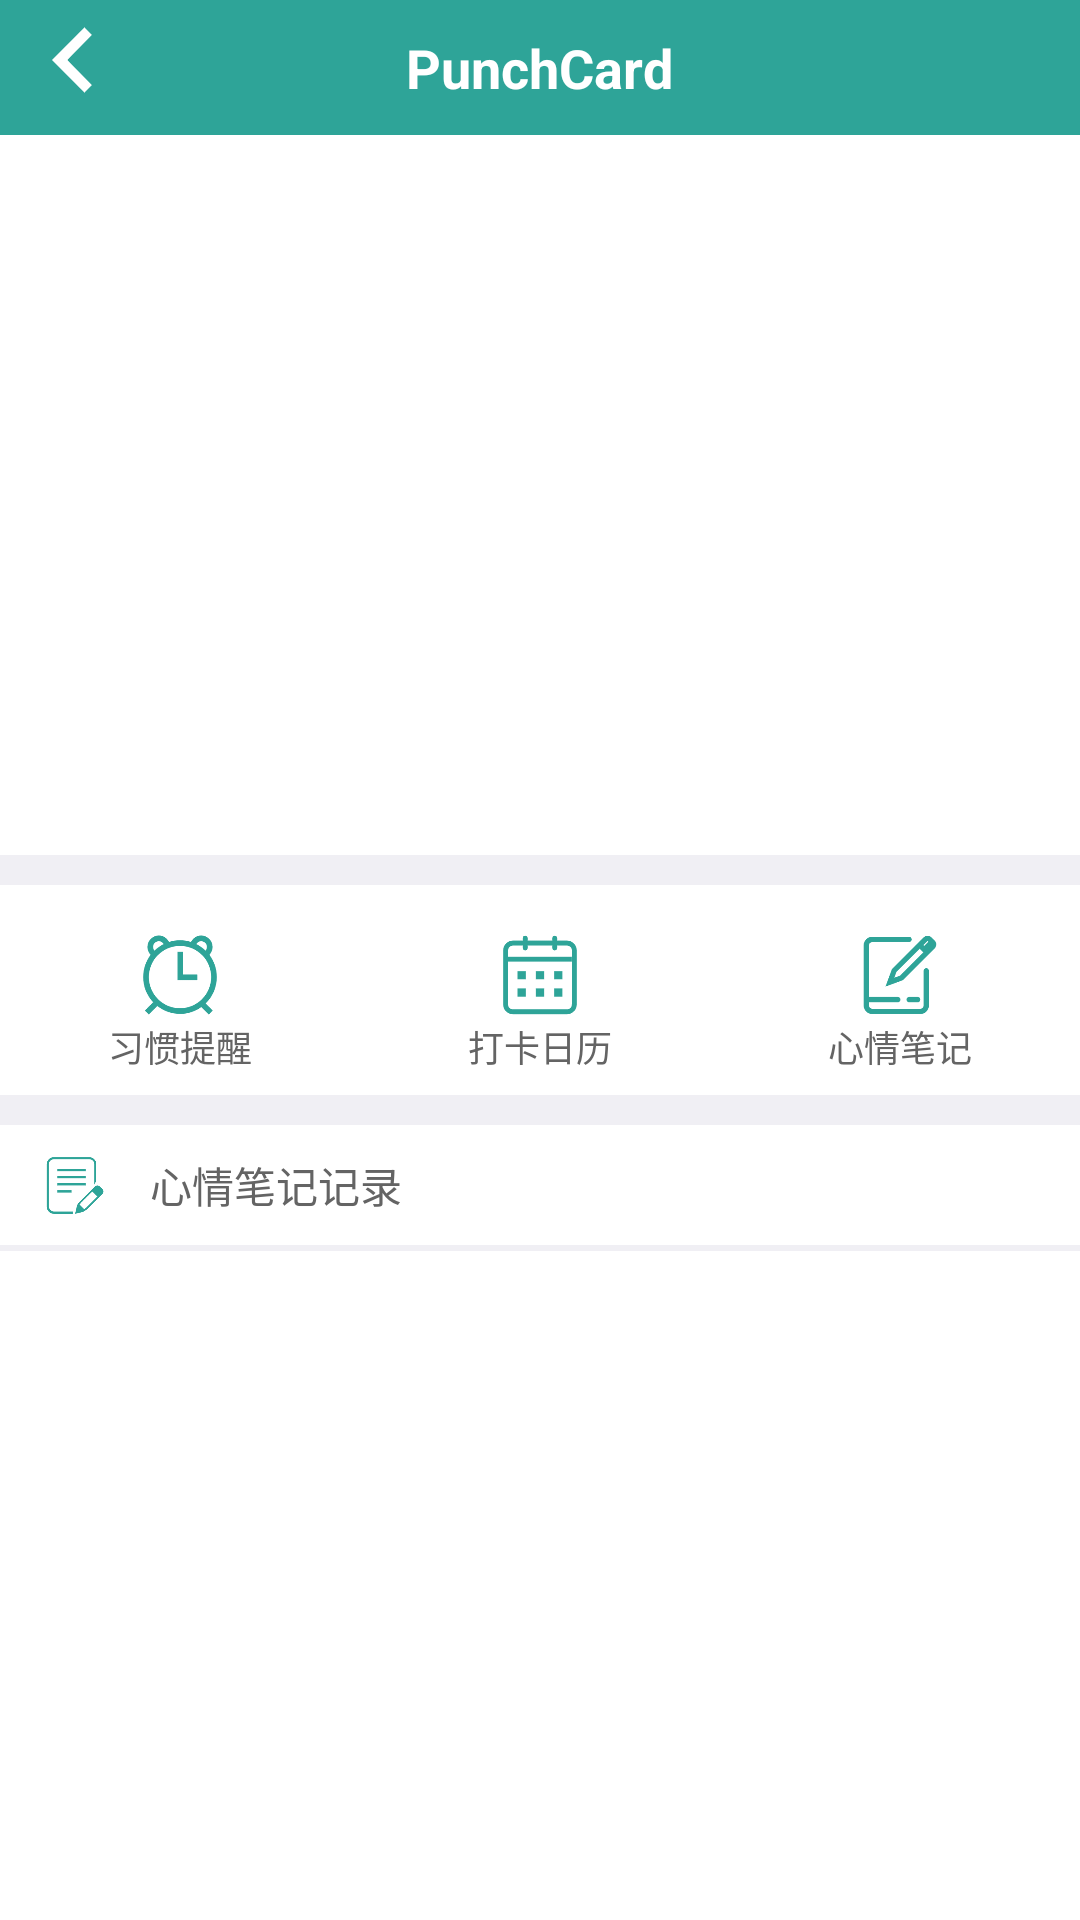

Screen size 1080×1920. Icon name, then its center in pixels as [x,y]:
back: [72,60]
clock: [180,975]
little notes: [75,1185]
